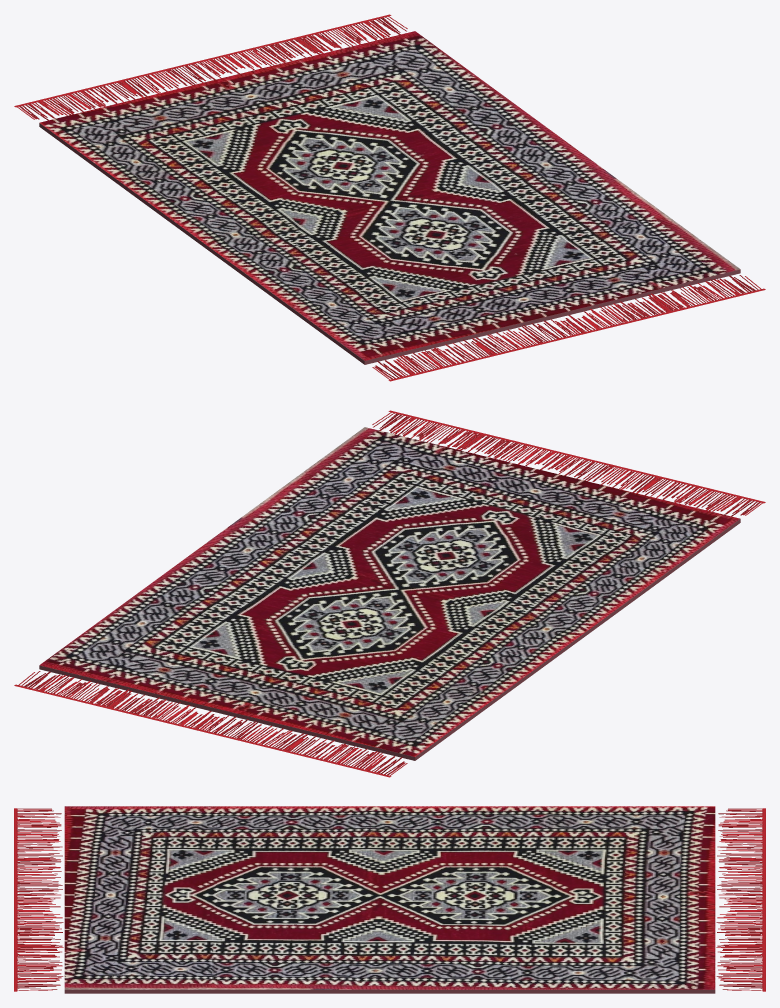
The picture shows the model from 3 angles, top to bottom: view 1: azimuth 30°, elevation 25°; view 2: azimuth 150°, elevation 25°; view 3: azimuth 270°, elevation 25°; orthographic projection.
Parts seen in each view (by area): view 1: rug, fringeB, fringeA, side; view 2: rug, fringeA, fringeB, side; view 3: rug, fringeA, fringeB, side.
Boxes of the visible parts, box(x1,y1,x2,y2) form: rug: box(39, 31, 739, 360); fringeB: box(372, 275, 765, 381); fringeA: box(14, 14, 407, 120); side: box(39, 123, 740, 364); rug: box(40, 427, 740, 756); fringeA: box(14, 671, 407, 777); fringeB: box(372, 410, 765, 516); side: box(39, 519, 740, 760); rug: box(64, 806, 715, 989); fringeA: box(716, 808, 765, 991); fringeB: box(14, 808, 63, 991); side: box(64, 989, 715, 993).
Size of what is drawn, in the model's own units: 0.6 by 0.00614 by 1.04.
Materials: 2 (2 with a texture image).
